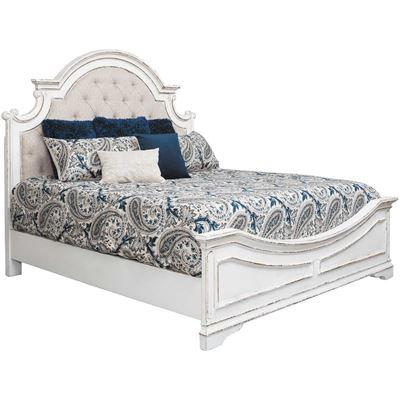bed: (1, 45, 400, 353)
